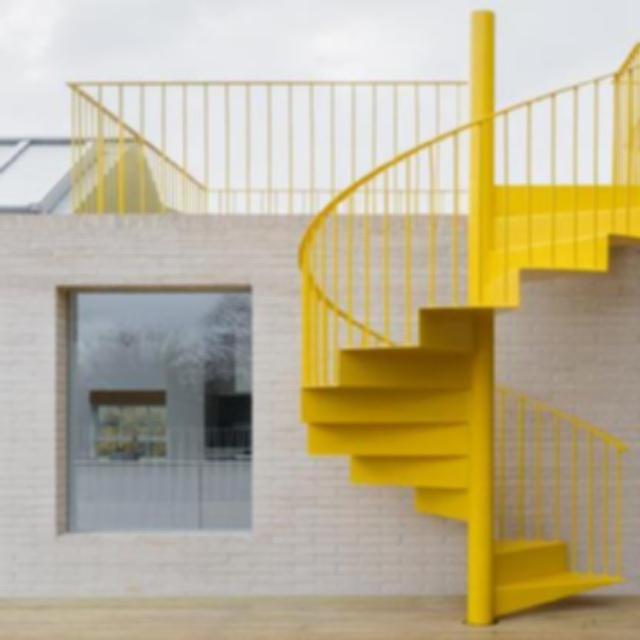stair: (275, 82, 640, 638)
